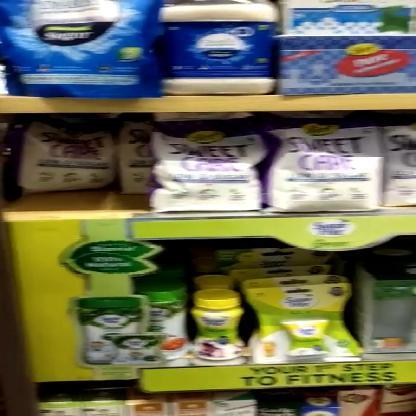SUGAR FREE NATURA 500 PELLET: (254, 286, 357, 360)
SUGAR FREE NATURA_ POWDER_CONC_100G: (192, 288, 246, 362)
